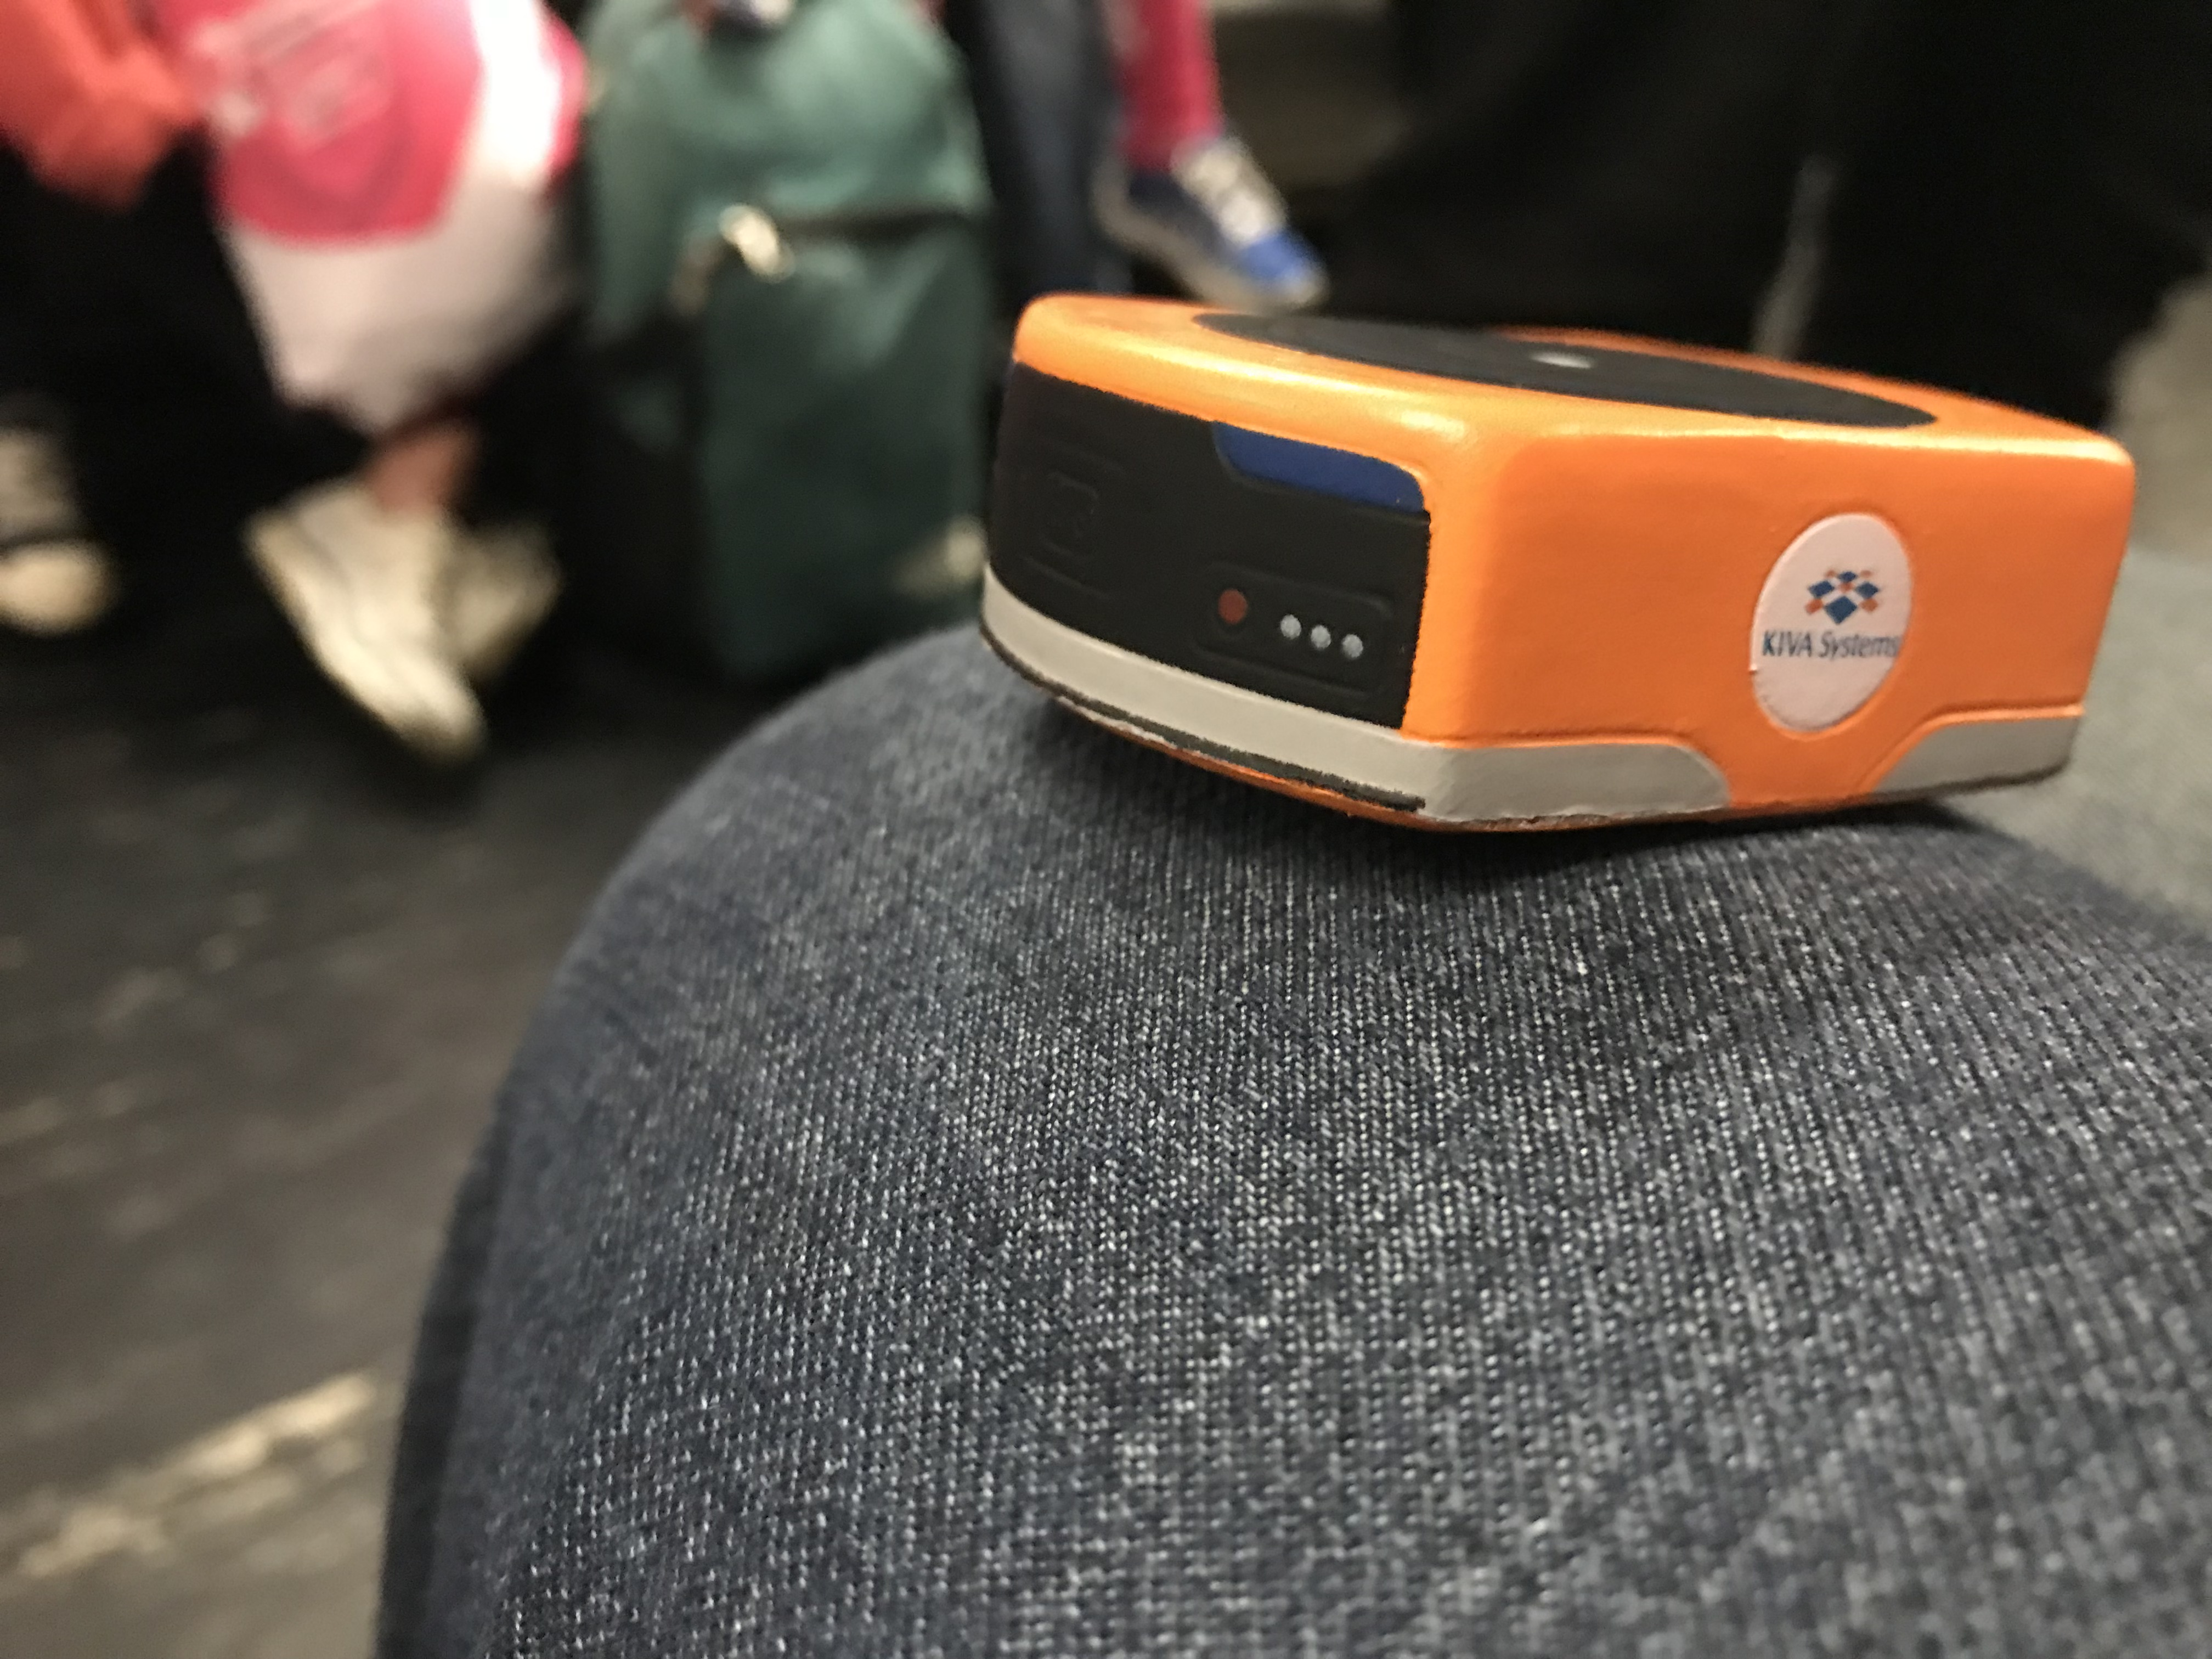amazon_bot: (967, 265, 2149, 908)
